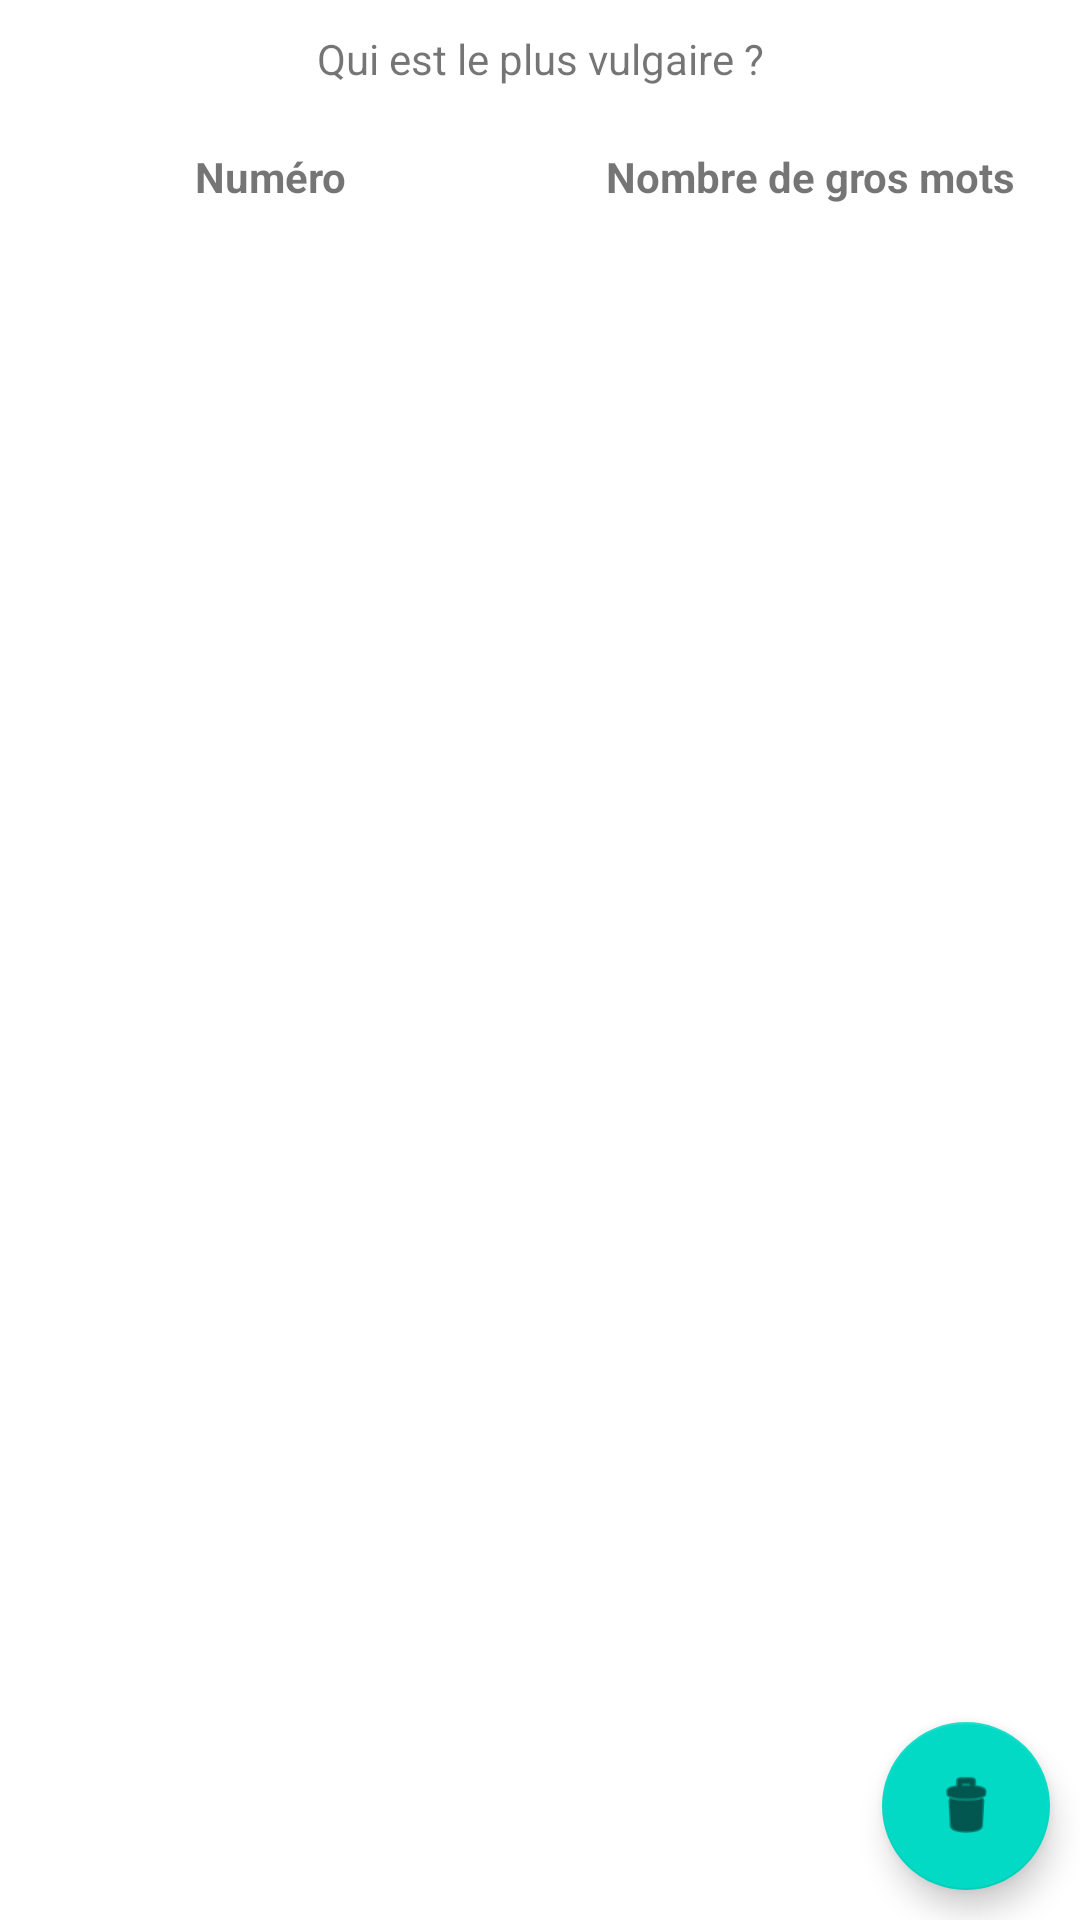

Icons on this 1080×1920 Android screen, each with its box as (x1, y1, x2, y2):
Réinitialiser la liste: (882, 1722, 1050, 1890)
